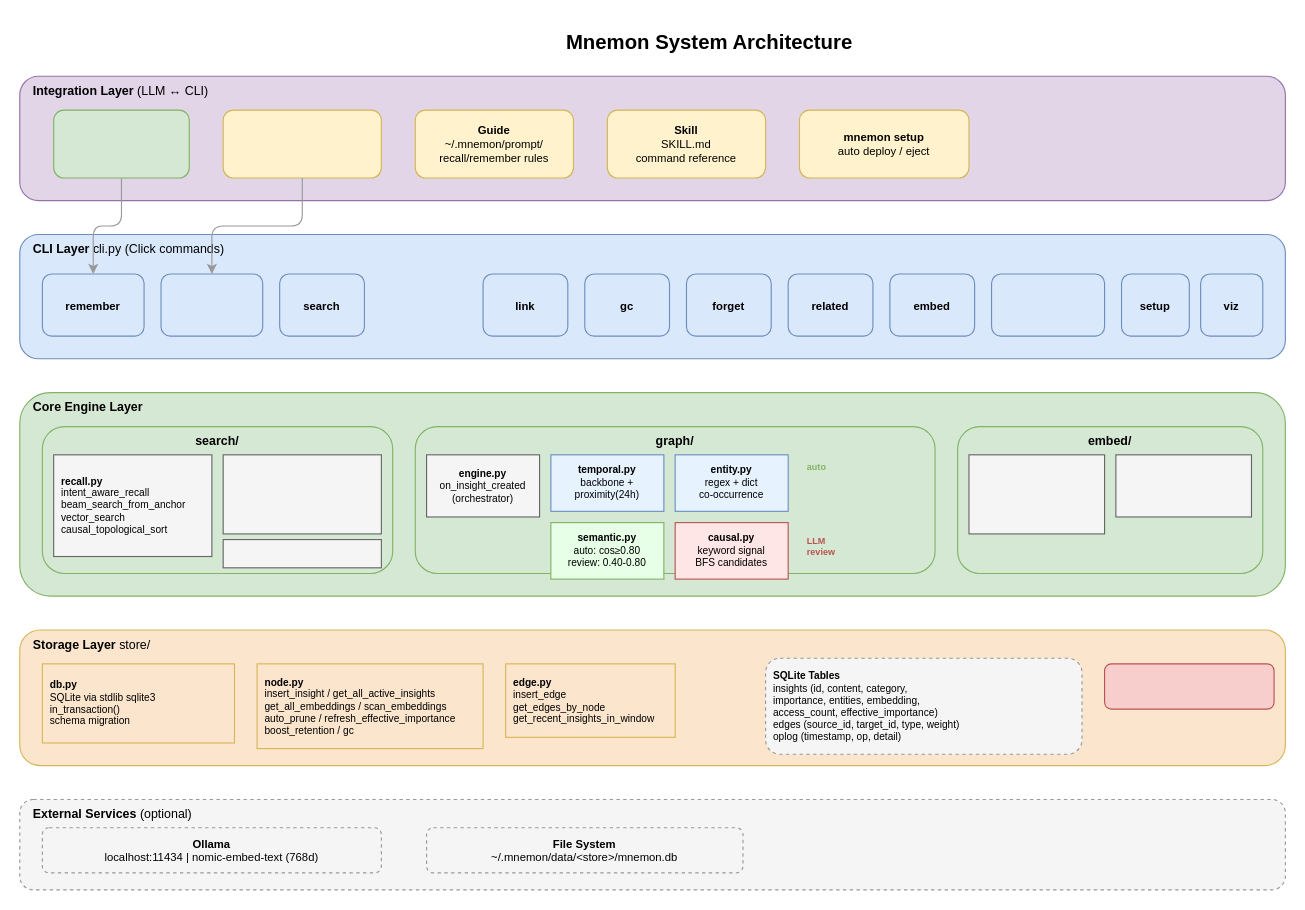
Some shapes in this 1305 by 910 pixel diagram are drawn without their labels. Here are the shapes that lost their labels. From the top down, the centre of each, then its label:
At pixel 121 143: "Claude Code LLM Agent".
At pixel 301 143: "Hooks Prime / Remind / Nudge Compact / Recall".
At pixel 211 304: "recall (smart default)".
At pixel 1047 304: "status / log".
At pixel 301 494: "keyword.py keyword_search content_similarity tokenize (stopwords)".
At pixel 1036 494: "ollama.py EmbedClient class nomic-embed-text graceful fallback".
At pixel 1183 485: "vector.py cosine_similarity serialize_vector / deserialize_vector".
At pixel 301 553: "intent.py detect_intent WHY|WHEN|ENTITY|GENERAL".
At pixel 1188 686: "MaxInsights = 1000 ~7MB memory / ~1.4MB disk".
